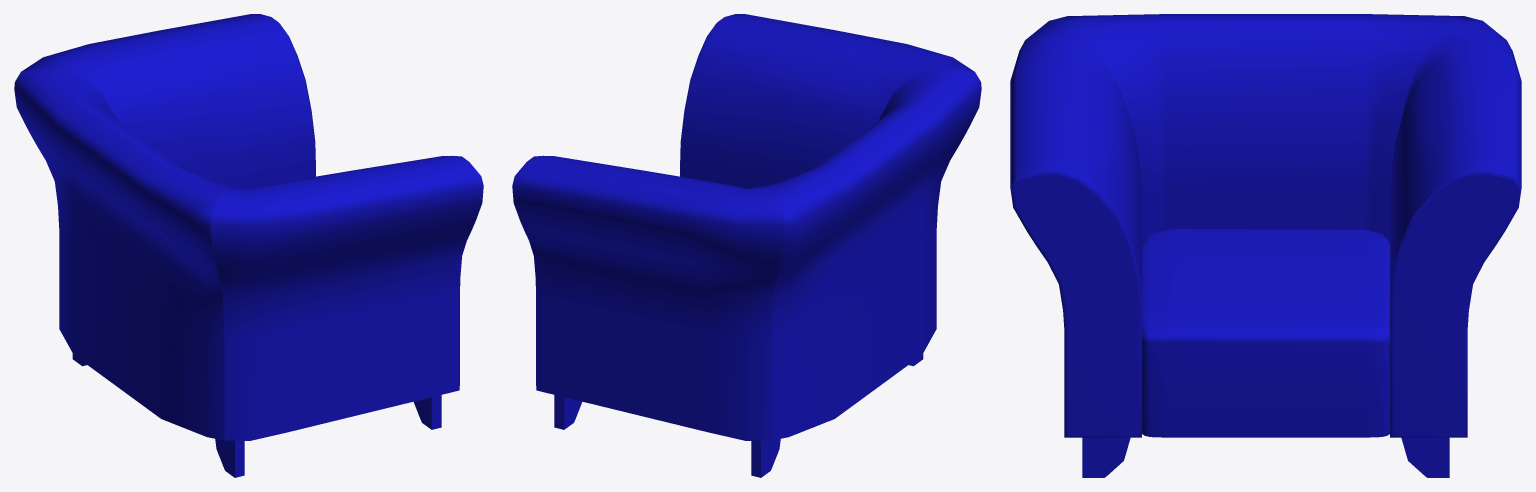
The model's file is Sofa_silla.obj.
3 views of the same model, side by side, from view 1: azimuth 30°, elevation 25°; view 2: azimuth 150°, elevation 25°; view 3: azimuth 270°, elevation 25° (orthographic). The views are drawn at different scales.
Parts seen in each view (by area): view 1: sofa_01; view 2: sofa_01; view 3: sofa_01.
Boxes of the visible parts, x1,y1,x2,y2 form: sofa_01: (14, 14, 483, 477); sofa_01: (512, 14, 981, 477); sofa_01: (1010, 14, 1521, 477).
Bounding box in the file's own units: 2.85 × 2.9 × 4.08.
